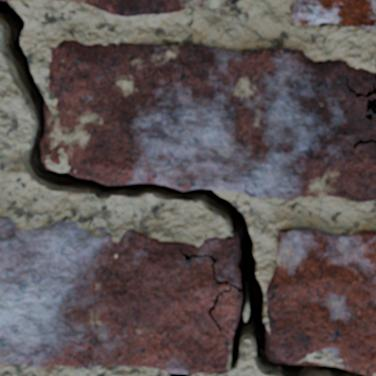brick: (44, 41, 375, 201), (0, 218, 240, 373), (267, 229, 375, 373), (67, 0, 237, 15), (293, 0, 375, 28)
crack: (0, 0, 373, 375), (168, 371, 188, 375)
